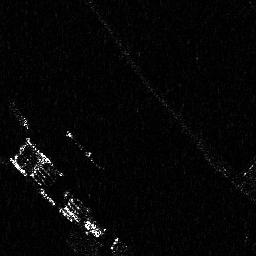ship: (66, 130, 103, 168), (9, 101, 30, 130)
